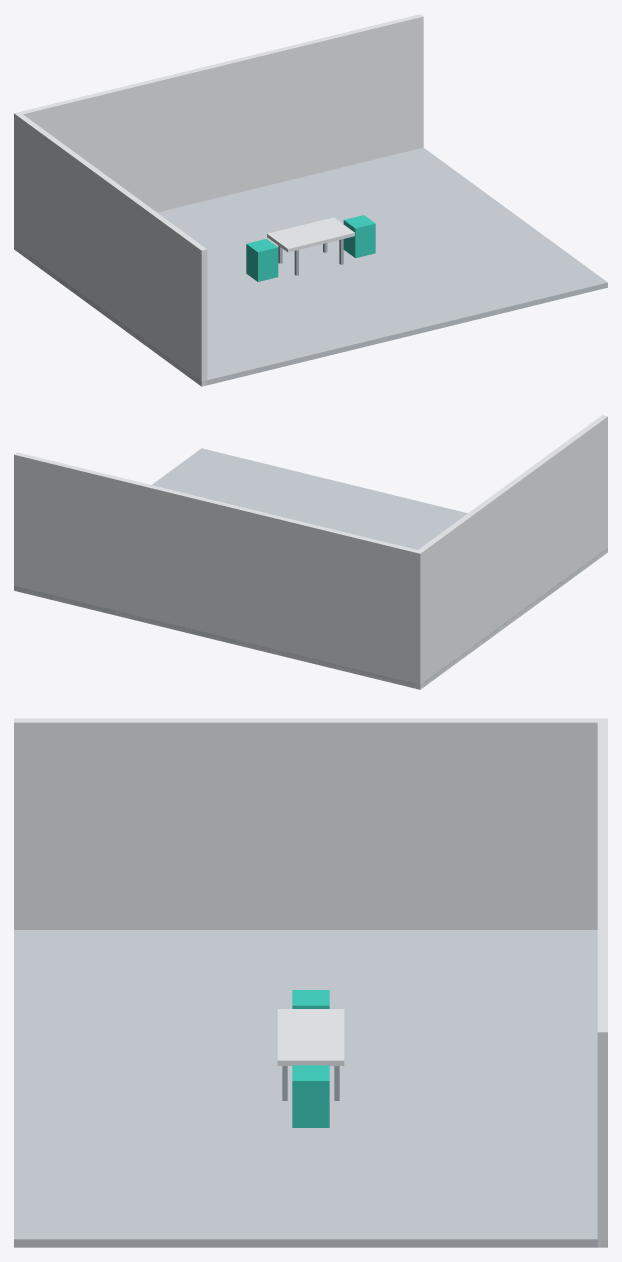
3 renders of one model, top to bottom at view 1: azimuth 30°, elevation 25°; view 2: azimuth 150°, elevation 25°; view 3: azimuth 270°, elevation 25°, orthographic. The views are drawn at different scales.
Visible parts, largest first — view 1: Exhibition Booth Concept; view 2: Exhibition Booth Concept; view 3: Exhibition Booth Concept.
Boxes of the visible parts, x1,y1,x2,y2 form: Exhibition Booth Concept: [14, 14, 607, 386]; Exhibition Booth Concept: [14, 415, 607, 689]; Exhibition Booth Concept: [14, 718, 607, 1247].
Bounding box in the file's own units: 10 × 3.2 × 8.
